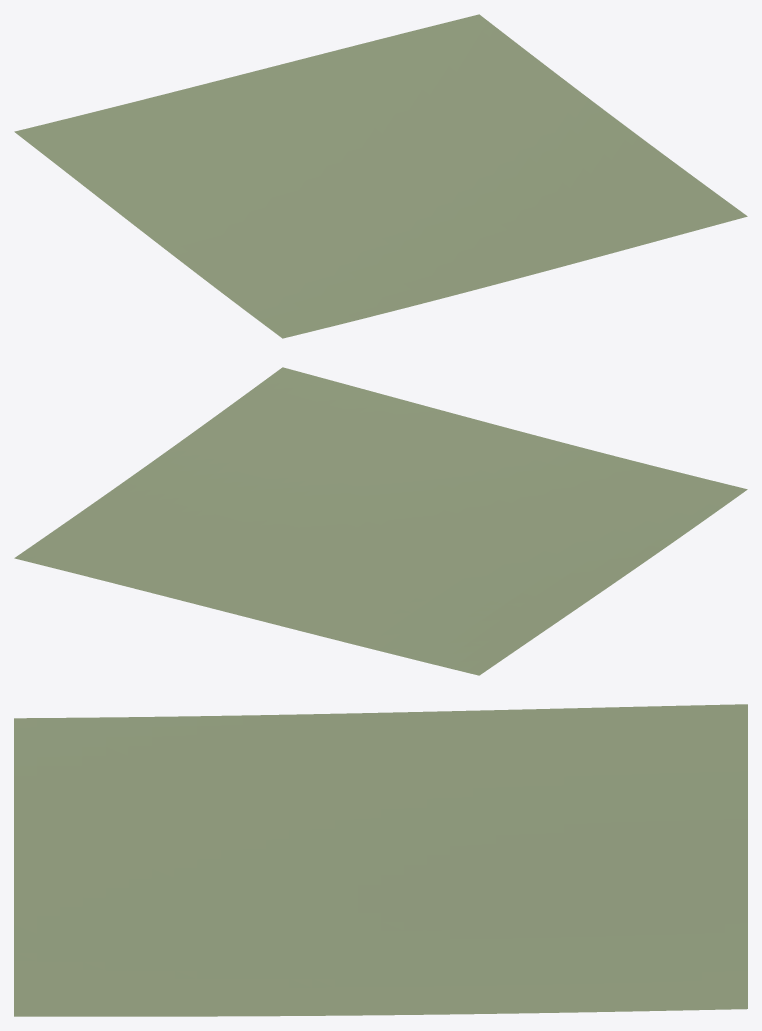
Rendered from expanse-0-30.glb.
3 views of the same model, one above another, from view 1: azimuth 30°, elevation 25°; view 2: azimuth 150°, elevation 25°; view 3: azimuth 270°, elevation 25° (orthographic). The views are drawn at different scales.
Visible parts, largest first — view 1: expanse-0-30; view 2: expanse-0-30; view 3: expanse-0-30.
Part boxes in pixels (x1,y1,x2,y2): expanse-0-30: (14,14,747,338); expanse-0-30: (14,367,747,675); expanse-0-30: (14,704,747,1016).
Bounding box in the file's own units: 256 × 7.43 × 256.
